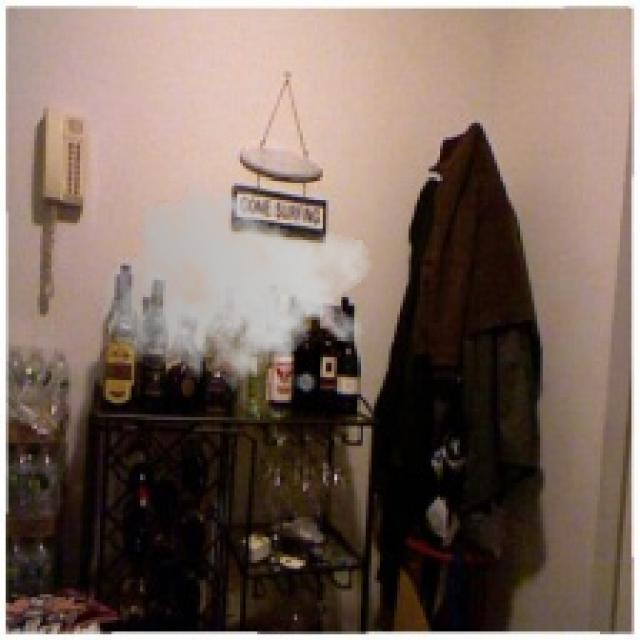Smoke: (100, 177, 374, 403)
